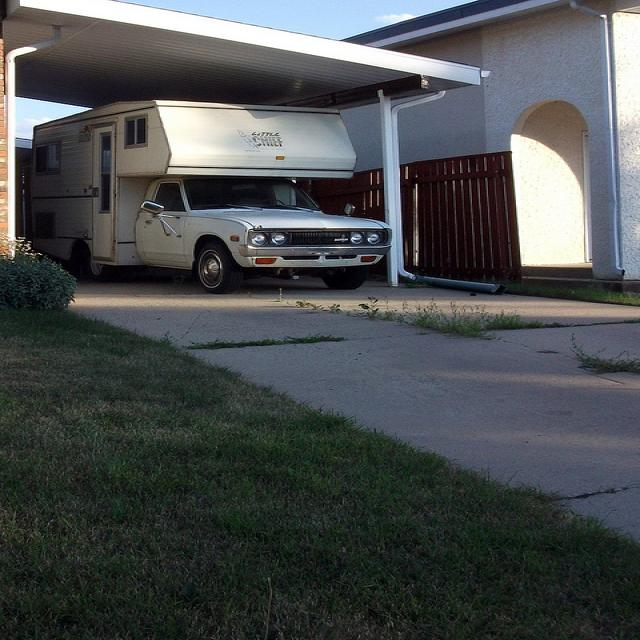Vehicle: (28, 99, 394, 293)
